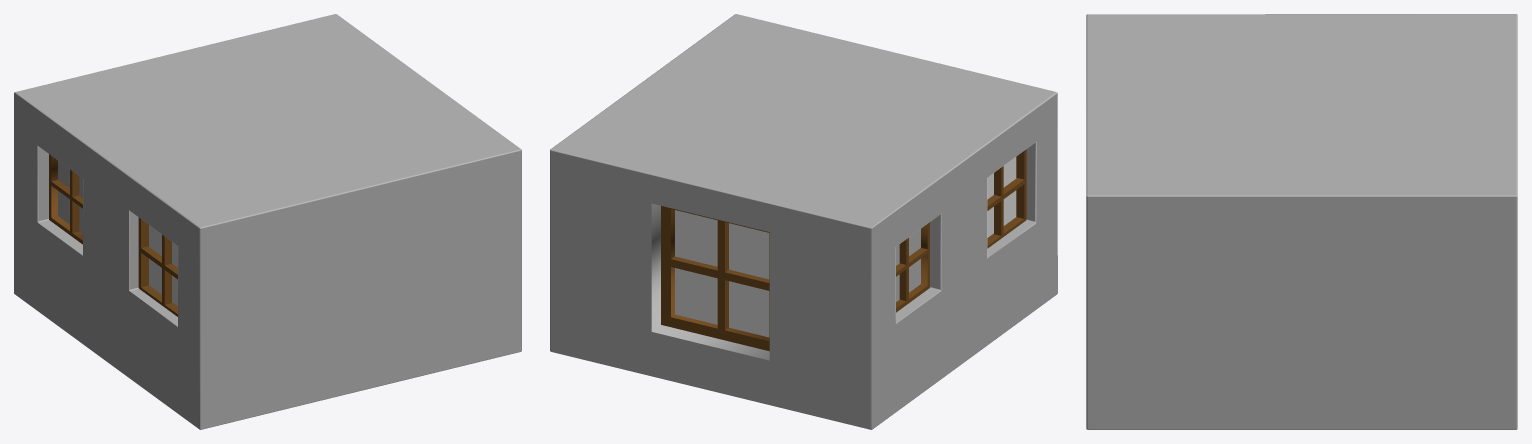
Rendered from F_Door_2.fbx.
3 renders of one model, left to right at view 1: azimuth 30°, elevation 25°; view 2: azimuth 150°, elevation 25°; view 3: azimuth 270°, elevation 25°, orthographic. The views are drawn at different scales.
Parts seen in each view (by area): view 1: Wall.003, Window_2.003, Window_1.002; view 2: Wall.003, Big_Window.002, Window_2.003, Window_1.002; view 3: Wall.003.
Boxes of the visible parts, bbox=[...] form: Wall.003: bbox=[14, 14, 521, 429]; Window_2.003: bbox=[138, 217, 177, 316]; Window_1.002: bbox=[49, 154, 82, 244]; Wall.003: bbox=[550, 14, 1057, 429]; Big_Window.002: bbox=[661, 206, 769, 351]; Window_2.003: bbox=[987, 149, 1026, 248]; Window_1.002: bbox=[896, 222, 929, 312]; Wall.003: bbox=[1086, 14, 1517, 429].
Bounding box in the file's own units: 500 × 300 × 500.
